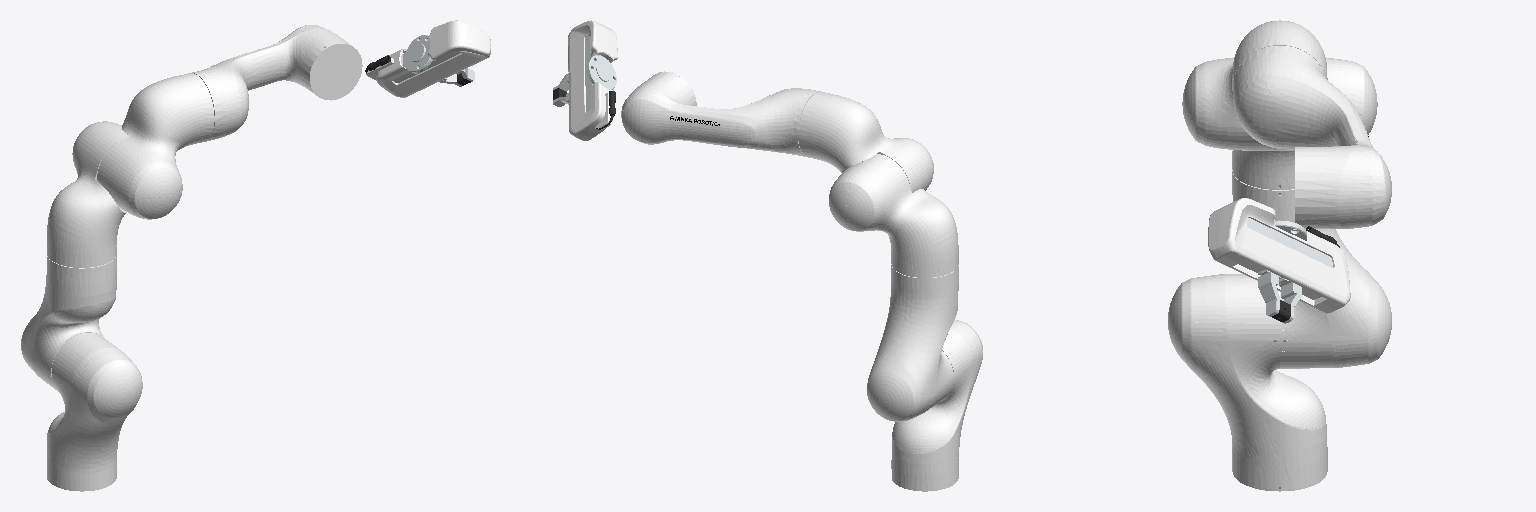
The robot description file, URDF, robot "fr3v2_1":
<?xml version="1.0" ?>
<!-- =================================================================================== -->
<!-- |    This document was autogenerated by xacro from franka_description/robots/fr3v2_1/fr3v2_1.urdf.xacro | -->
<!-- |    EDITING THIS FILE BY HAND IS NOT RECOMMENDED                                 | -->
<!-- =================================================================================== -->
<robot name="fr3v2_1">
  <!-- safety_distance: Minimum safety distance in [m] by which the collision volumes are expanded and which is enforced during robot motions -->
  <!-- robot_type: the franka robot arm type -->
  <!-- joint_limits: description of the joint limits that comes from a YAML file. Example definition: ${xacro.load_yaml('$(find franka_description)/robots/fr3/joint_limits.yaml')} -->
  <!-- kinematics: description of the kinematics that comes from a YAML file. Example definition: ${xacro.load_yaml('$(find franka_description)/robots/fr3/kinematics.yaml')} -->
  <!-- inertials: description of the inertials that comes from a YAML file. Example definition: ${xacro.load_yaml('$(find franka_description)/robots/fr3/inertials.yaml')} -->
  <!-- dynamics: description of the dynamics that comes from a YAML file. Example definition: ${xacro.load_yaml('$(find franka_description)/robots/fr3/dynamics.yaml')} -->
  <link name="base">
      </link>
  <joint name="fr3v2_1_base_joint" type="fixed">
    <parent link="base"/>
    <child link="fr3v2_1_link0"/>
    <origin rpy="0 0 0" xyz="0 0 0"/>
  </joint>
  <!-- sub-link defining detailed meshes for collision with environment -->
  <link name="fr3v2_1_link0">
    <visual name="fr3v2_1_link0_visual">
      <geometry>
        <mesh filename="package://franka_description/meshes/robots/fr3v2_1/visual/link0.dae"/>
      </geometry>
    </visual>
    <collision name="fr3v2_1_link0_collision">
      <geometry>
        <mesh filename="package://franka_description/meshes/robots/fr3v2_1/collision/link0.stl"/>
      </geometry>
    </collision>
    <inertial>
      <origin rpy="0 0 0" xyz="-0.017200 0.000400 0.074500"/>
      <mass value="2.3966"/>
      <inertia ixx="0.009" ixy="0.0" ixz="0.002" iyy="0.0115" iyz="0.0" izz="0.0085"/>
    </inertial>
  </link>
  <link name="fr3v2_1_link0_accelerometer_top">
      </link>
  <joint name="fr3v2_1_link0_accelerometer_top_joint" type="fixed">
    <origin rpy="3.1416 0.0 0.0" xyz="-0.017402 -0.007872 0.04715"/>
    <parent link="fr3v2_1_link0"/>
    <child link="fr3v2_1_link0_accelerometer_top"/>
  </joint>
  <link name="fr3v2_1_link0_accelerometer_bottom">
      </link>
  <joint name="fr3v2_1_link0_accelerometer_bottom_joint" type="fixed">
    <origin rpy="0.0 0.0 -1.5708" xyz="-0.019739 0.0015506 0.05075"/>
    <parent link="fr3v2_1_link0"/>
    <child link="fr3v2_1_link0_accelerometer_bottom"/>
  </joint>
  <!-- sub-link defining detailed meshes for collision with environment -->
  <link name="fr3v2_1_link1">
    <visual name="fr3v2_1_link1_visual">
      <geometry>
        <mesh filename="package://franka_description/meshes/robots/fr3v2_1/visual/link1.dae"/>
      </geometry>
    </visual>
    <collision name="fr3v2_1_link1_collision">
      <geometry>
        <mesh filename="package://franka_description/meshes/robots/fr3v2_1/collision/link1.stl"/>
      </geometry>
    </collision>
    <inertial>
      <origin rpy="0 0 0" xyz="-0.004580 0.027016 -0.061800"/>
      <mass value="2.4377"/>
      <inertia ixx="0.02324" ixy="0.000333" ixz="-0.000676" iyy="0.02146" iyz="0.003739" izz="0.0055"/>
    </inertial>
  </link>
  <link name="fr3v2_1_link1_accelerometer_top">
      </link>
  <joint name="fr3v2_1_link1_accelerometer_top_joint" type="fixed">
    <origin rpy="-1.5708 0.0 3.1416" xyz="0.017402 -0.093352 -0.00787"/>
    <parent link="fr3v2_1_link1"/>
    <child link="fr3v2_1_link1_accelerometer_top"/>
  </joint>
  <link name="fr3v2_1_link1_accelerometer_bottom">
      </link>
  <joint name="fr3v2_1_link1_accelerometer_bottom_joint" type="fixed">
    <origin rpy="-1.5708 1.5708 0.0" xyz="0.01974 -0.08975 0.00155"/>
    <parent link="fr3v2_1_link1"/>
    <child link="fr3v2_1_link1_accelerometer_bottom"/>
  </joint>
  <joint name="fr3v2_1_joint1" type="revolute">
    <origin rpy="0 0 0" xyz="0 0 0.333"/>
    <parent link="fr3v2_1_link0"/>
    <child link="fr3v2_1_link1"/>
    <axis xyz="0 0 1"/>
    <limit effort="87.0" lower="-2.9007400166666666" upper="2.9007400166666666" velocity="2.62"/>
    <safety_controller k_position="100.0" k_velocity="40.0" soft_lower_limit="-2.9007400166666666" soft_upper_limit="2.9007400166666666"/>
    <position_based_velocity_limits deceleration_limit="6.0" velocity_offset="0.6520000381679385"/>
    <dynamics D="1" K="7000" damping="0.003" friction="0.2" gear_ratio="120.0" motor_inertia="4.206399e-05" mu_coulomb="0" mu_viscous="16"/>
  </joint>
  <!-- sub-link defining detailed meshes for collision with environment -->
  <link name="fr3v2_1_link2">
    <visual name="fr3v2_1_link2_visual">
      <geometry>
        <mesh filename="package://franka_description/meshes/robots/fr3v2_1/visual/link2.dae"/>
      </geometry>
    </visual>
    <collision name="fr3v2_1_link2_collision">
      <geometry>
        <mesh filename="package://franka_description/meshes/robots/fr3v2_1/collision/link2.stl"/>
      </geometry>
    </collision>
    <inertial>
      <origin rpy="0 0 0" xyz="-0.010630 -0.184739 -0.010479"/>
      <mass value="2.2375"/>
      <inertia ixx="0.019026" ixy="0.001241" ixz="0.000499" iyy="0.00566" iyz="-0.001804" izz="0.017114"/>
    </inertial>
  </link>
  <link name="fr3v2_1_link2_accelerometer_top">
      </link>
  <joint name="fr3v2_1_link2_accelerometer_top_joint" type="fixed">
    <origin rpy="1.5708 0.0 3.1416" xyz="0.017403 -0.11515 0.00787"/>
    <parent link="fr3v2_1_link2"/>
    <child link="fr3v2_1_link2_accelerometer_top"/>
  </joint>
  <link name="fr3v2_1_link2_accelerometer_bottom">
      </link>
  <joint name="fr3v2_1_link2_accelerometer_bottom_joint" type="fixed">
    <origin rpy="1.5708 -1.5708 0.0" xyz="0.019737 -0.11875 -0.00155"/>
    <parent link="fr3v2_1_link2"/>
    <child link="fr3v2_1_link2_accelerometer_bottom"/>
  </joint>
  <joint name="fr3v2_1_joint2" type="revolute">
    <origin rpy="-1.570796326794897 0 0" xyz="0 0 0"/>
    <parent link="fr3v2_1_link1"/>
    <child link="fr3v2_1_link2"/>
    <axis xyz="0 0 1"/>
    <limit effort="87.0" lower="-1.8360900166666667" upper="1.8360900166666667" velocity="2.62"/>
    <safety_controller k_position="100.0" k_velocity="40.0" soft_lower_limit="-1.8360900166666667" soft_upper_limit="1.8360900166666667"/>
    <position_based_velocity_limits deceleration_limit="2.585" velocity_offset="0.2499685851463105"/>
    <dynamics D="1" K="7000" damping="0.003" friction="0.2" gear_ratio="120.0" motor_inertia="4.206399e-05" mu_coulomb="0" mu_viscous="16"/>
  </joint>
  <!-- sub-link defining detailed meshes for collision with environment -->
  <link name="fr3v2_1_link3">
    <visual name="fr3v2_1_link3_visual">
      <geometry>
        <mesh filename="package://franka_description/meshes/robots/fr3v2_1/visual/link3.dae"/>
      </geometry>
    </visual>
    <collision name="fr3v2_1_link3_collision">
      <geometry>
        <mesh filename="package://franka_description/meshes/robots/fr3v2_1/collision/link3.stl"/>
      </geometry>
    </collision>
    <inertial>
      <origin rpy="0 0 0" xyz="0.091995 0.023003 0.047348"/>
      <mass value="2.196382"/>
      <inertia ixx="0.010225" ixy="0.001144" ixz="0.003497" iyy="0.012398" iyz="0.002156" izz="0.006877"/>
    </inertial>
  </link>
  <link name="fr3v2_1_link3_accelerometer_top">
      </link>
  <joint name="fr3v2_1_link3_accelerometer_top_joint" type="fixed">
    <origin rpy="-1.5708 0.0 0.0" xyz="0.065099 0.077352 -0.00787"/>
    <parent link="fr3v2_1_link3"/>
    <child link="fr3v2_1_link3_accelerometer_top"/>
  </joint>
  <link name="fr3v2_1_link3_accelerometer_bottom">
      </link>
  <joint name="fr3v2_1_link3_accelerometer_bottom_joint" type="fixed">
    <origin rpy="1.5708 1.5708 0.0" xyz="0.062769 0.073756 0.00155"/>
    <parent link="fr3v2_1_link3"/>
    <child link="fr3v2_1_link3_accelerometer_bottom"/>
  </joint>
  <joint name="fr3v2_1_joint3" type="revolute">
    <origin rpy="1.570796326794897 0 0" xyz="0 -0.316 0"/>
    <parent link="fr3v2_1_link2"/>
    <child link="fr3v2_1_link3"/>
    <axis xyz="0 0 1"/>
    <limit effort="87.0" lower="-2.9007400166666666" upper="2.9007400166666666" velocity="2.62"/>
    <safety_controller k_position="100.0" k_velocity="40.0" soft_lower_limit="-2.9007400166666666" soft_upper_limit="2.9007400166666666"/>
    <position_based_velocity_limits deceleration_limit="3.5" velocity_offset="0.20053055661577582"/>
    <dynamics D="1" K="7000" damping="0.003" friction="0.2" gear_ratio="120.0" motor_inertia="3.211626e-05" mu_coulomb="0" mu_viscous="16"/>
  </joint>
  <!-- sub-link defining detailed meshes for collision with environment -->
  <link name="fr3v2_1_link4">
    <visual name="fr3v2_1_link4_visual">
      <geometry>
        <mesh filename="package://franka_description/meshes/robots/fr3v2_1/visual/link4.dae"/>
      </geometry>
    </visual>
    <collision name="fr3v2_1_link4_collision">
      <geometry>
        <mesh filename="package://franka_description/meshes/robots/fr3v2_1/collision/link4.stl"/>
      </geometry>
    </collision>
    <inertial>
      <origin rpy="0 0 0" xyz="-0.084334 0.096836 0.006248"/>
      <mass value="2.186422"/>
      <inertia ixx="0.008878" ixy="-0.003749" ixz="0.001139" iyy="0.007628" iyz="-0.00046" izz="0.010295"/>
    </inertial>
  </link>
  <link name="fr3v2_1_link4_accelerometer_top">
      </link>
  <joint name="fr3v2_1_link4_accelerometer_top_joint" type="fixed">
    <origin rpy="-1.5708 0.0 -3.1416" xyz="-0.0651 0.046152 -0.00787"/>
    <parent link="fr3v2_1_link4"/>
    <child link="fr3v2_1_link4_accelerometer_top"/>
  </joint>
  <link name="fr3v2_1_link4_accelerometer_bottom">
      </link>
  <joint name="fr3v2_1_link4_accelerometer_bottom_joint" type="fixed">
    <origin rpy="-1.5708 1.5708 0.0" xyz="-0.062775 0.049753 0.00155"/>
    <parent link="fr3v2_1_link4"/>
    <child link="fr3v2_1_link4_accelerometer_bottom"/>
  </joint>
  <joint name="fr3v2_1_joint4" type="revolute">
    <origin rpy="1.570796326794897 0 0" xyz="0.0825 0 0"/>
    <parent link="fr3v2_1_link3"/>
    <child link="fr3v2_1_link4"/>
    <axis xyz="0 0 1"/>
    <limit effort="87.0" lower="-3.077020016666667" upper="-0.11693708333333333" velocity="2.62"/>
    <safety_controller k_position="100.0" k_velocity="40.0" soft_lower_limit="-3.077020016666667" soft_upper_limit="-0.11693708333333333"/>
    <position_based_velocity_limits deceleration_limit="4.0" velocity_offset="0.3542181933842238"/>
    <dynamics D="1" K="7000" damping="0.003" friction="0.2" gear_ratio="120.0" motor_inertia="3.211626e-05" mu_coulomb="0" mu_viscous="16"/>
  </joint>
  <!-- sub-link defining detailed meshes for collision with environment -->
  <link name="fr3v2_1_link5">
    <visual name="fr3v2_1_link5_visual">
      <geometry>
        <mesh filename="package://franka_description/meshes/robots/fr3v2_1/visual/link5.dae"/>
      </geometry>
    </visual>
    <collision name="fr3v2_1_link5_collision">
      <geometry>
        <mesh filename="package://franka_description/meshes/robots/fr3v2_1/collision/link5.stl"/>
      </geometry>
    </collision>
    <inertial>
      <origin rpy="0 0 0" xyz="0.000039 0.011821 -0.054936"/>
      <mass value="2.190783"/>
      <inertia ixx="0.031874" ixy="0.000134" ixz="-0.000265" iyy="0.029674" iyz="-0.004734" izz="0.004751"/>
    </inertial>
  </link>
  <link name="fr3v2_1_link5_accelerometer_top">
      </link>
  <joint name="fr3v2_1_link5_accelerometer_top_joint" type="fixed">
    <origin rpy="-1.5708 0.0 0.0" xyz="-0.017363 0.085872 -0.00795"/>
    <parent link="fr3v2_1_link5"/>
    <child link="fr3v2_1_link5_accelerometer_top"/>
  </joint>
  <link name="fr3v2_1_link5_accelerometer_bottom">
      </link>
  <joint name="fr3v2_1_link5_accelerometer_bottom_joint" type="fixed">
    <origin rpy="1.5708 1.5708 0.0" xyz="-0.019742 0.082275 0.00146"/>
    <parent link="fr3v2_1_link5"/>
    <child link="fr3v2_1_link5_accelerometer_bottom"/>
  </joint>
  <joint name="fr3v2_1_joint5" type="revolute">
    <origin rpy="-1.570796326794897 0 0" xyz="-0.0825 0.384 0"/>
    <parent link="fr3v2_1_link4"/>
    <child link="fr3v2_1_link5"/>
    <axis xyz="0 0 1"/>
    <limit effort="12.0" lower="-2.87630335" upper="2.87630335" velocity="5.26"/>
    <safety_controller k_position="100.0" k_velocity="40.0" soft_lower_limit="-2.87630335" soft_upper_limit="2.87630335"/>
    <position_based_velocity_limits deceleration_limit="17.0" velocity_offset="0.5738321197718637"/>
    <dynamics D="1" K="7000" damping="0.003" friction="0.2" gear_ratio="80.0" motor_inertia="3.211626e-05" mu_coulomb="0" mu_viscous="16"/>
  </joint>
  <!-- sub-link defining detailed meshes for collision with environment -->
  <link name="fr3v2_1_link6">
    <visual name="fr3v2_1_link6_visual">
      <geometry>
        <mesh filename="package://franka_description/meshes/robots/fr3v2_1/visual/link6.dae"/>
      </geometry>
    </visual>
    <collision name="fr3v2_1_link6_collision">
      <geometry>
        <mesh filename="package://franka_description/meshes/robots/fr3v2_1/collision/link6.stl"/>
      </geometry>
    </collision>
    <inertial>
      <origin rpy="0 0 0" xyz="0.069627 -0.016716 -0.037235"/>
      <mass value="1.583583"/>
      <inertia ixx="0.00286" ixy="-0.000553" ixz="-0.000638" iyy="0.00391" iyz="-0.00024" izz="0.00453"/>
    </inertial>
  </link>
  <joint name="fr3v2_1_joint6" type="revolute">
    <origin rpy="1.570796326794897 0 0" xyz="0 0 0"/>
    <parent link="fr3v2_1_link5"/>
    <child link="fr3v2_1_link6"/>
    <axis xyz="0 0 1"/>
    <limit effort="12.0" lower="0.43982265" upper="4.62163335" velocity="4.18"/>
    <safety_controller k_position="100.0" k_velocity="40.0" soft_lower_limit="0.43982265" soft_upper_limit="4.62163335"/>
    <position_based_velocity_limits deceleration_limit="5.5" velocity_offset="0.4884649342105264"/>
    <dynamics D="1" K="7000" damping="0.003" friction="0.2" gear_ratio="80.0" motor_inertia="3.211626e-05" mu_coulomb="0" mu_viscous="16"/>
  </joint>
  <!-- sub-link defining detailed meshes for collision with environment -->
  <link name="fr3v2_1_link7">
    <visual name="fr3v2_1_link7_visual">
      <geometry>
        <mesh filename="package://franka_description/meshes/robots/fr3v2_1/visual/link7.dae"/>
      </geometry>
    </visual>
    <collision name="fr3v2_1_link7_collision">
      <geometry>
        <mesh filename="package://franka_description/meshes/robots/fr3v2_1/collision/link7.stl"/>
      </geometry>
    </collision>
    <inertial>
      <origin rpy="0 0 0" xyz="-0.014555 0.009230 0.065858"/>
      <mass value="0.698686"/>
      <inertia ixx="0.000899" ixy="0.0" ixz="-1.3e-05" iyy="0.001099" iyz="-2.2e-05" izz="0.000702"/>
    </inertial>
  </link>
  <joint name="fr3v2_1_joint7" type="revolute">
    <origin rpy="1.570796326794897 0 0" xyz="0.088 0 0"/>
    <parent link="fr3v2_1_link6"/>
    <child link="fr3v2_1_link7"/>
    <axis xyz="0 0 1"/>
    <limit effort="12.0" lower="-3.05083335" upper="3.05083335" velocity="5.26"/>
    <safety_controller k_position="100.0" k_velocity="40.0" soft_lower_limit="-3.05083335" soft_upper_limit="3.05083335"/>
    <position_based_velocity_limits deceleration_limit="17.0" velocity_offset="0.4591952376425851"/>
    <dynamics D="1" K="7000" damping="0.003" friction="0.2" gear_ratio="80.0" motor_inertia="3.211626e-05" mu_coulomb="0" mu_viscous="16"/>
  </joint>
  <link name="fr3v2_1_link8"/>
  <joint name="fr3v2_1_joint8" type="fixed">
    <origin rpy="0 0 0" xyz="0 0 0.107"/>
    <parent link="fr3v2_1_link7"/>
    <child link="fr3v2_1_link8"/>
  </joint>
  <joint name="fr3v2_1_hand_joint" type="fixed">
    <parent link="fr3v2_1_link8"/>
    <child link="fr3v2_1_hand"/>
    <origin rpy="0 0 -0.7853981633974483" xyz="0 0 0"/>
  </joint>
  <!-- sub-link defining detailed meshes for collision with environment -->
  <link name="fr3v2_1_hand">
    <visual name="fr3v2_1_hand_visual">
      <geometry>
        <mesh filename="package://franka_description/meshes/robot_ee/franka_hand_white/visual/hand.dae"/>
      </geometry>
    </visual>
    <collision name="fr3v2_1_hand_collision">
      <geometry>
        <mesh filename="package://franka_description/meshes/robot_ee/franka_hand_white/collision/hand.stl"/>
      </geometry>
    </collision>
    <inertial>
      <origin rpy="0 0 0" xyz="-0.0000376 0.0119128 0.0207260"/>
      <mass value="0.6544"/>
      <inertia ixx="0.00186" ixy="0.0" ixz="0.0" iyy="0.0003" iyz="-2e-05" izz="0.00174"/>
    </inertial>
  </link>
  <!-- Define the hand_tcp frame -->
  <link name="fr3v2_1_hand_tcp"/>
  <joint name="fr3v2_1_hand_tcp_joint" type="fixed">
    <origin rpy="0 0 0" xyz="0 0 0.1034"/>
    <parent link="fr3v2_1_hand"/>
    <child link="fr3v2_1_hand_tcp"/>
  </joint>
  <link name="fr3v2_1_leftfinger">
    <visual name="fr3v2_1_leftfinger_visual">
      <geometry>
        <mesh filename="package://franka_description/meshes/robot_ee/franka_hand_white/visual/finger.dae"/>
      </geometry>
    </visual>
    <!-- screw mount -->
    <collision>
      <origin rpy="0 0 0" xyz="0 18.5e-3 11e-3"/>
      <geometry>
        <box size="22e-3 15e-3 20e-3"/>
      </geometry>
    </collision>
    <!-- cartriage sledge -->
    <collision>
      <origin rpy="0 0 0" xyz="0 6.8e-3 2.2e-3"/>
      <geometry>
        <box size="22e-3 8.8e-3 3.8e-3"/>
      </geometry>
    </collision>
    <!-- diagonal finger -->
    <collision>
      <origin rpy="0.5235987755982988 0 0" xyz="0 15.9e-3 28.35e-3"/>
      <geometry>
        <box size="17.5e-3 7e-3 23.5e-3"/>
      </geometry>
    </collision>
    <!-- rubber tip with which to grasp -->
    <collision>
      <origin rpy="0 0 0" xyz="0 7.58e-3 45.25e-3"/>
      <geometry>
        <box size="17.5e-3 15.2e-3 18.5e-3"/>
      </geometry>
    </collision>
    <inertial>
      <origin rpy="0 0 0" xyz="0 0.0152850 0.0219675"/>
      <mass value="0.0291"/>
      <inertia ixx="8.49e-06" ixy="0.0" ixz="0.0" iyy="8.53e-06" iyz="-1.06e-06" izz="1.77e-06"/>
    </inertial>
  </link>
  <link name="fr3v2_1_rightfinger">
    <visual name="fr3v2_1_rightfinger_visual">
      <origin rpy="0 0 0" xyz="0 0 0"/>
      <geometry>
        <mesh filename="package://franka_description/meshes/robot_ee/franka_hand_white/visual/finger.dae"/>
      </geometry>
    </visual>
    <!-- screw mount -->
    <collision>
      <origin rpy="0 0 0" xyz="0 18.5e-3 11e-3"/>
      <geometry>
        <box size="22e-3 15e-3 20e-3"/>
      </geometry>
    </collision>
    <!-- cartriage sledge -->
    <collision>
      <origin rpy="0 0 0" xyz="0 6.8e-3 2.2e-3"/>
      <geometry>
        <box size="22e-3 8.8e-3 3.8e-3"/>
      </geometry>
    </collision>
    <!-- diagonal finger -->
    <collision>
      <origin rpy="-0.5235987755982988 0 3.141592653589793" xyz="0 15.9e-3 28.35e-3"/>
      <geometry>
        <box size="17.5e-3 7e-3 23.5e-3"/>
      </geometry>
    </collision>
    <!-- rubber tip with which to grasp -->
    <collision>
      <origin rpy="0 0 0" xyz="0 7.58e-3 45.25e-3"/>
      <geometry>
        <box size="17.5e-3 15.2e-3 18.5e-3"/>
      </geometry>
    </collision>
    <inertial>
      <origin rpy="0 0 0" xyz="0 0.0152850 0.0219675"/>
      <mass value="0.0291"/>
      <inertia ixx="8.49e-06" ixy="0.0" ixz="0.0" iyy="8.53e-06" iyz="-1.06e-06" izz="1.77e-06"/>
    </inertial>
  </link>
  <joint name="fr3v2_1_finger_joint1" type="prismatic">
    <parent link="fr3v2_1_hand"/>
    <child link="fr3v2_1_leftfinger"/>
    <origin rpy="0 0 0" xyz="0 0 0.0584"/>
    <axis xyz="0 1 0"/>
    <limit effort="100" lower="0.0" upper="0.04" velocity="0.2"/>
    <dynamics damping="0.3"/>
  </joint>
  <joint name="fr3v2_1_finger_joint2" type="prismatic">
    <parent link="fr3v2_1_hand"/>
    <child link="fr3v2_1_rightfinger"/>
    <origin rpy="0 0 3.141592653589793" xyz="0 0 0.0584"/>
    <axis xyz="0 1 0"/>
    <limit effort="100" lower="0.0" upper="0.04" velocity="0.2"/>
    <mimic joint="fr3v2_1_finger_joint1"/>
    <dynamics damping="0.3"/>
  </joint>
</robot>

--- What the picture shows (computed from the rendered views, not written in the file) ---
3 views of the same robot in one strip: view 1: azimuth 30°, elevation 25°; view 2: azimuth 150°, elevation 25°; view 3: azimuth 270°, elevation 25° (orthographic).
Model fr3v2_1 with 26 links and 25 joints (7 revolute, 2 prismatic, 16 fixed), rooted at base, posed all joints at 0 but 2 set to mid-range because 0 is outside their limits (fr3v2_1_joint4 = -1.6, fr3v2_1_joint6 = 2.53).
Visible links, largest first — view 1: fr3v2_1_link1, fr3v2_1_link4, fr3v2_1_link5, fr3v2_1_link3, fr3v2_1_link2, fr3v2_1_hand; view 2: fr3v2_1_link2, fr3v2_1_link3, fr3v2_1_link5, fr3v2_1_link1, fr3v2_1_link4, fr3v2_1_hand; view 3: fr3v2_1_link1, fr3v2_1_link5, fr3v2_1_hand, fr3v2_1_link2, fr3v2_1_link4, fr3v2_1_link3, fr3v2_1_leftfinger, fr3v2_1_rightfinger.
Link boxes in pixels (<box>): fr3v2_1_link1: <box>47,333,142,491</box>; fr3v2_1_link4: <box>97,73,214,219</box>; fr3v2_1_link5: <box>192,25,362,141</box>; fr3v2_1_link3: <box>47,121,128,267</box>; fr3v2_1_link2: <box>21,256,116,391</box>; fr3v2_1_hand: <box>365,20,490,97</box>; fr3v2_1_link2: <box>867,264,958,421</box>; fr3v2_1_link3: <box>829,154,958,277</box>; fr3v2_1_link5: <box>621,71,820,156</box>; fr3v2_1_link1: <box>891,320,982,491</box>; fr3v2_1_link4: <box>798,92,933,192</box>; fr3v2_1_hand: <box>568,20,617,140</box>; fr3v2_1_link1: <box>1168,274,1327,491</box>; fr3v2_1_link5: <box>1232,46,1391,228</box>; fr3v2_1_hand: <box>1208,198,1350,313</box>; fr3v2_1_link2: <box>1232,171,1391,368</box>; fr3v2_1_link4: <box>1182,20,1327,150</box>; fr3v2_1_link3: <box>1232,58,1377,189</box>; fr3v2_1_leftfinger: <box>1258,269,1284,319</box>; fr3v2_1_rightfinger: <box>1277,278,1301,323</box>.
Bounding box of the posed robot: 0.7604 × 0.26 × 0.6515 m (x, y, z).
8 mesh visuals loaded from 10 distinct referenced files (7 Collada DAE); not drawn: 3 (reference not matched to a file when rendering).
